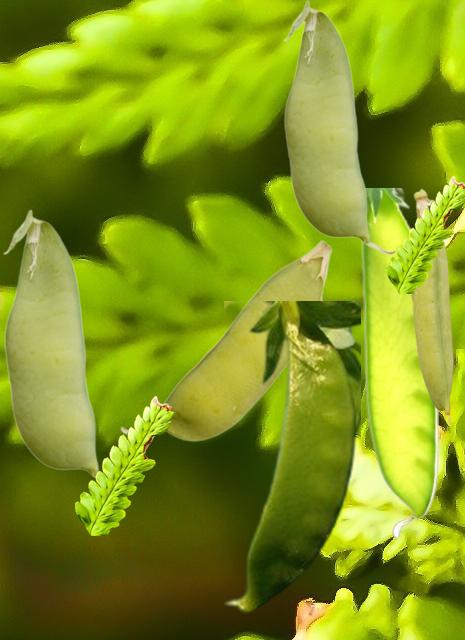pea: (120, 240, 331, 440), (224, 301, 359, 612), (282, 0, 396, 254), (359, 188, 437, 538), (2, 209, 100, 478), (410, 188, 453, 422)
